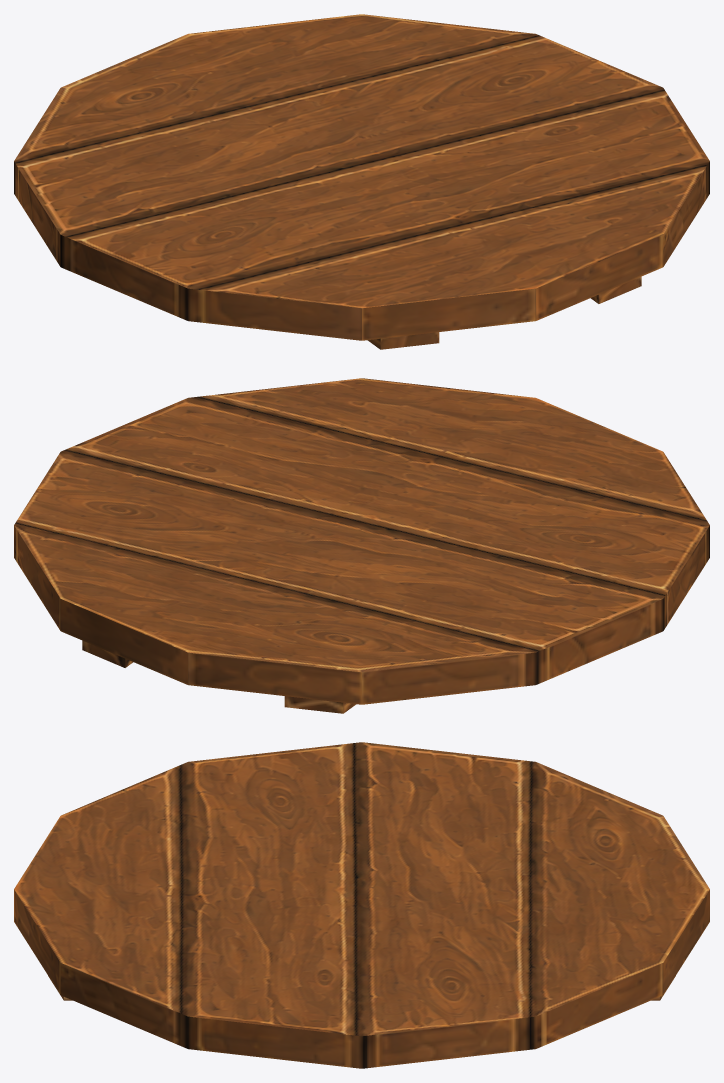
The model's file is BarrelLid01.fbx.
The picture shows the model from 3 angles, top to bottom: view 1: azimuth 30°, elevation 25°; view 2: azimuth 150°, elevation 25°; view 3: azimuth 270°, elevation 25°; orthographic projection.
Visible parts, largest first — view 1: BarrelLid01_LOD0; view 2: BarrelLid01_LOD0; view 3: BarrelLid01_LOD0.
Part boxes in pixels (x1,y1,x2,y2): BarrelLid01_LOD0: (14, 14, 709, 349); BarrelLid01_LOD0: (14, 378, 709, 713); BarrelLid01_LOD0: (14, 742, 709, 1068).
Size of what is drawn, in the model's own units: 0.4835 by 0.0365 by 0.4835.
